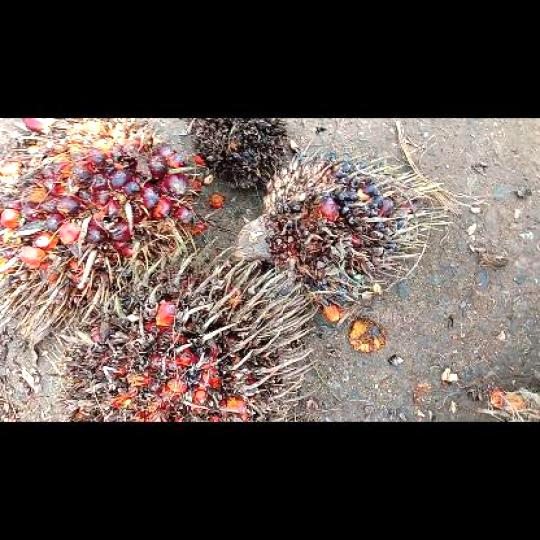masak: (0, 119, 208, 348)
terlalu masak: (59, 249, 320, 421)
